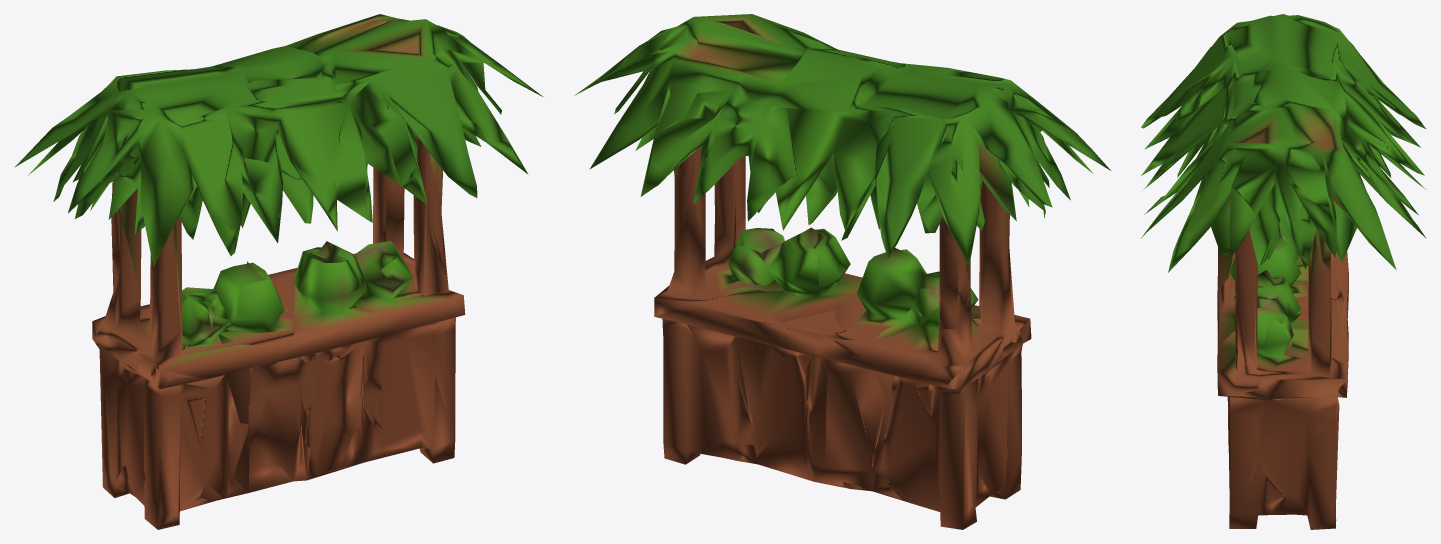
The model's file is gen3d-coconut-stall-lod0.glb.
The picture shows the model from 3 angles, left to right: view 1: azimuth 30°, elevation 25°; view 2: azimuth 150°, elevation 25°; view 3: azimuth 270°, elevation 25°; orthographic projection. The views are drawn at different scales.
Visible parts, largest first — view 1: part_0; view 2: part_0; view 3: part_0.
Part boxes in pixels (bbox=[...]): part_0: bbox=[14, 14, 542, 529]; part_0: bbox=[574, 14, 1110, 529]; part_0: bbox=[1141, 14, 1426, 529].
Size of the model in its own units: 1.19 by 0.9955 by 0.6689.
